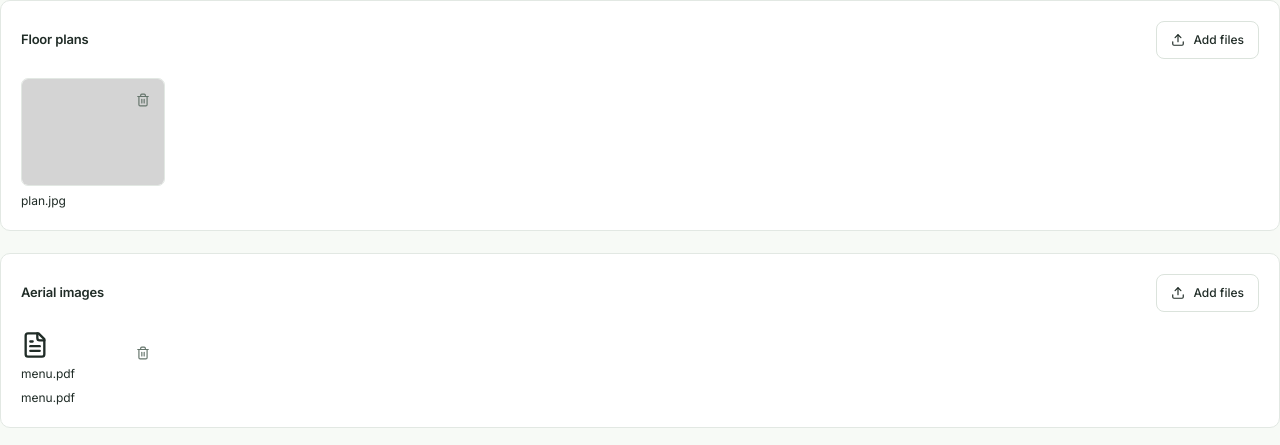
Test: reports lost access and exposes no link when renewal is refused
This screenshot has width=1280, height=445.
Click the link "menu.pdf".
click(48, 356)  # box top-left (21, 331), bottom-right (75, 381)
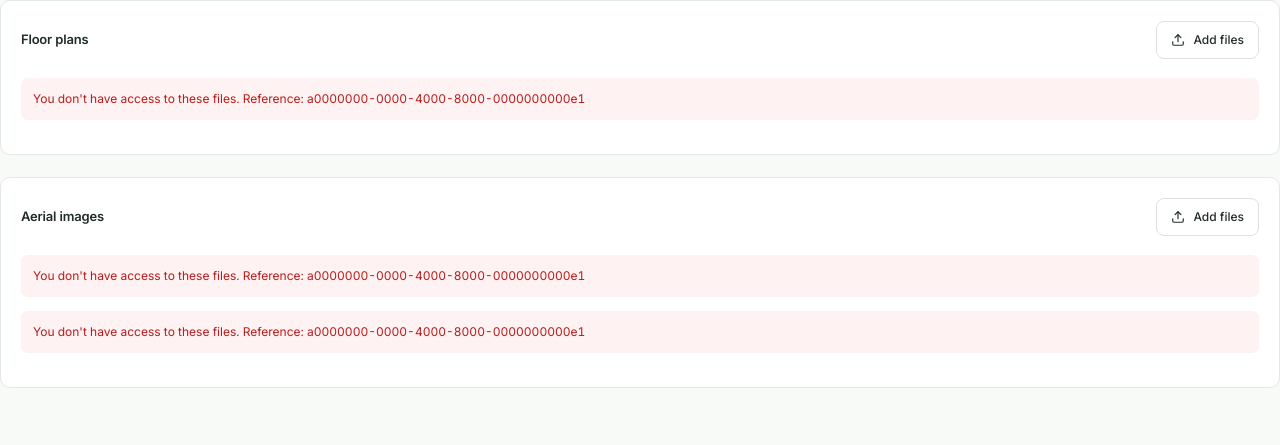
Check: the text "You don't have access to these files" below "Floor plans" is shown, box top-left (33, 91), bottom-right (585, 106)
Check: the text "plan.jpg" is gone
